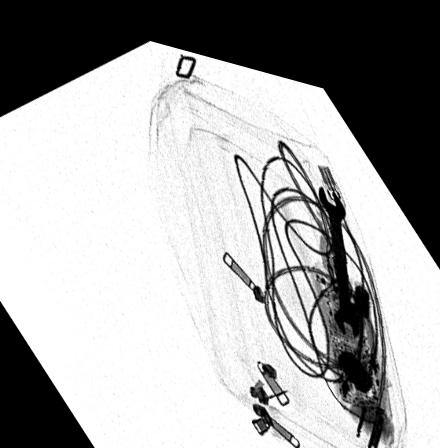Wrench: (317, 170, 360, 320)
